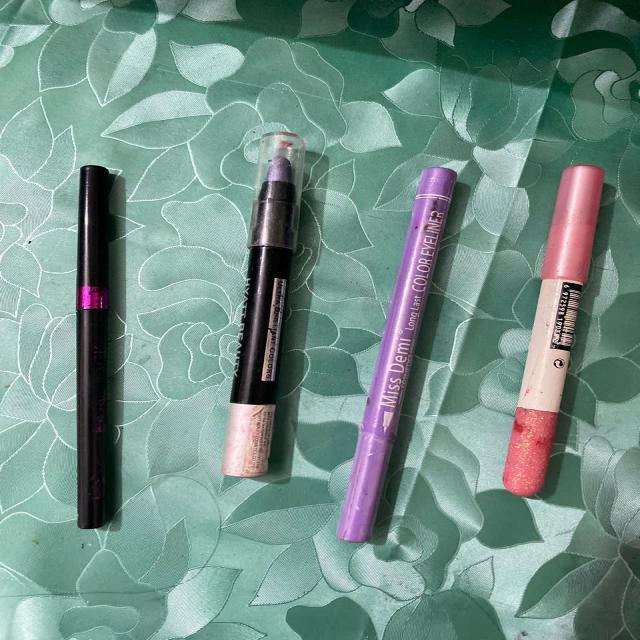eye liner: (30, 142, 148, 548)
kajal: (205, 122, 321, 512)
lip liner: (331, 154, 472, 560), (489, 149, 623, 507)
